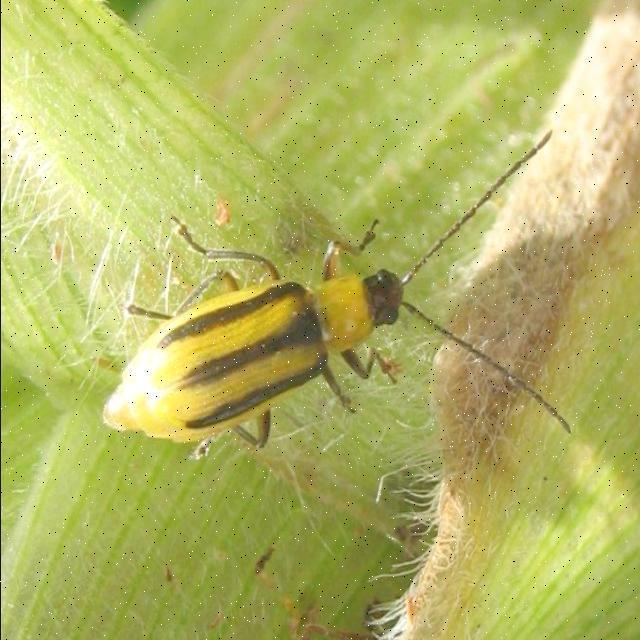trips: (45, 123, 568, 518)
